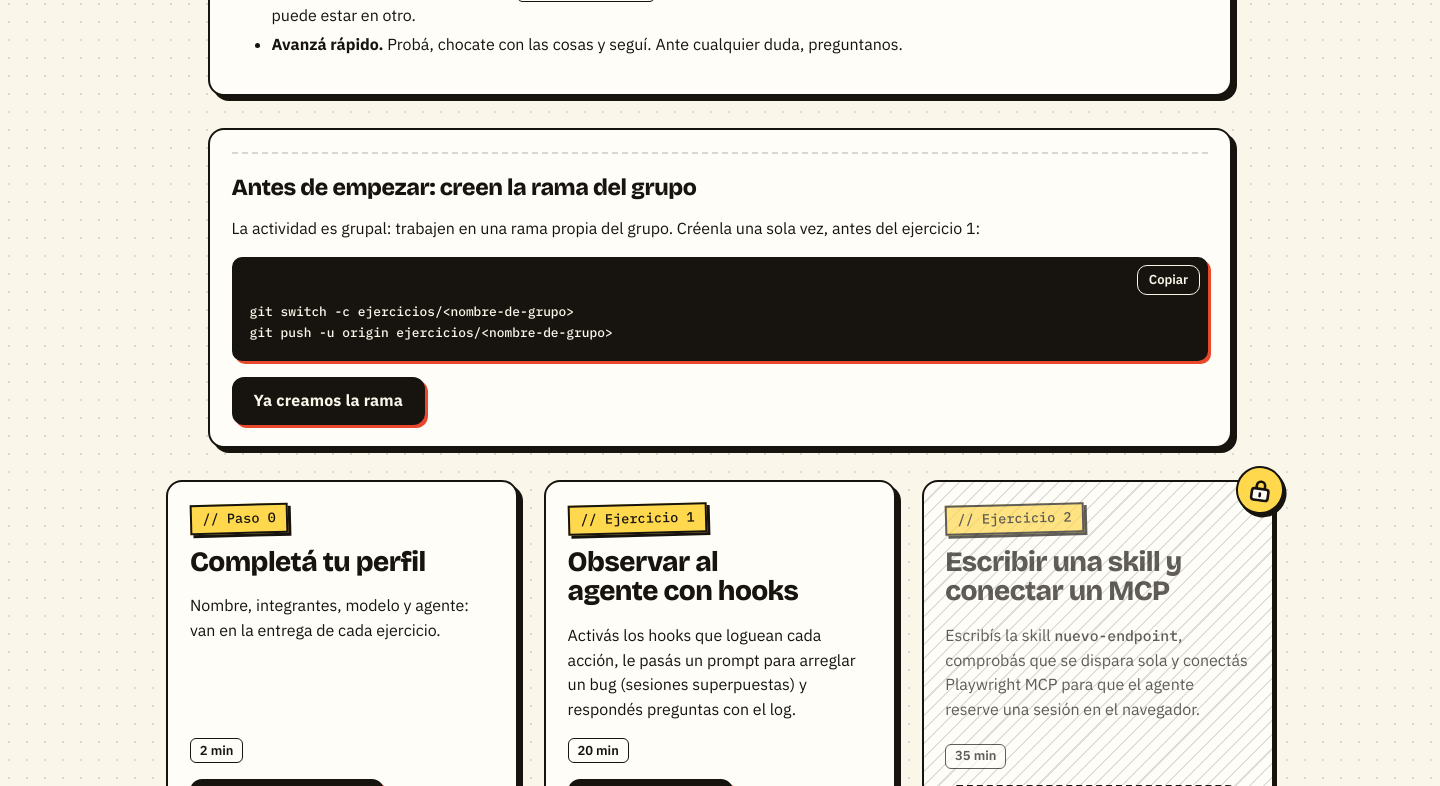
Test: Ejercicios (índice) › arriba pide crear la rama del grupo y el aviso se va al confirmarlo
(page scrolled)
Expected: the element "rama del grupo" shows "git switch -c ejercicios/<nombre-de-grupo>", [250,303,613,341]
Step 1. Click the button "Ya creamos la rama" → (328, 401), box [232,377,425,425]
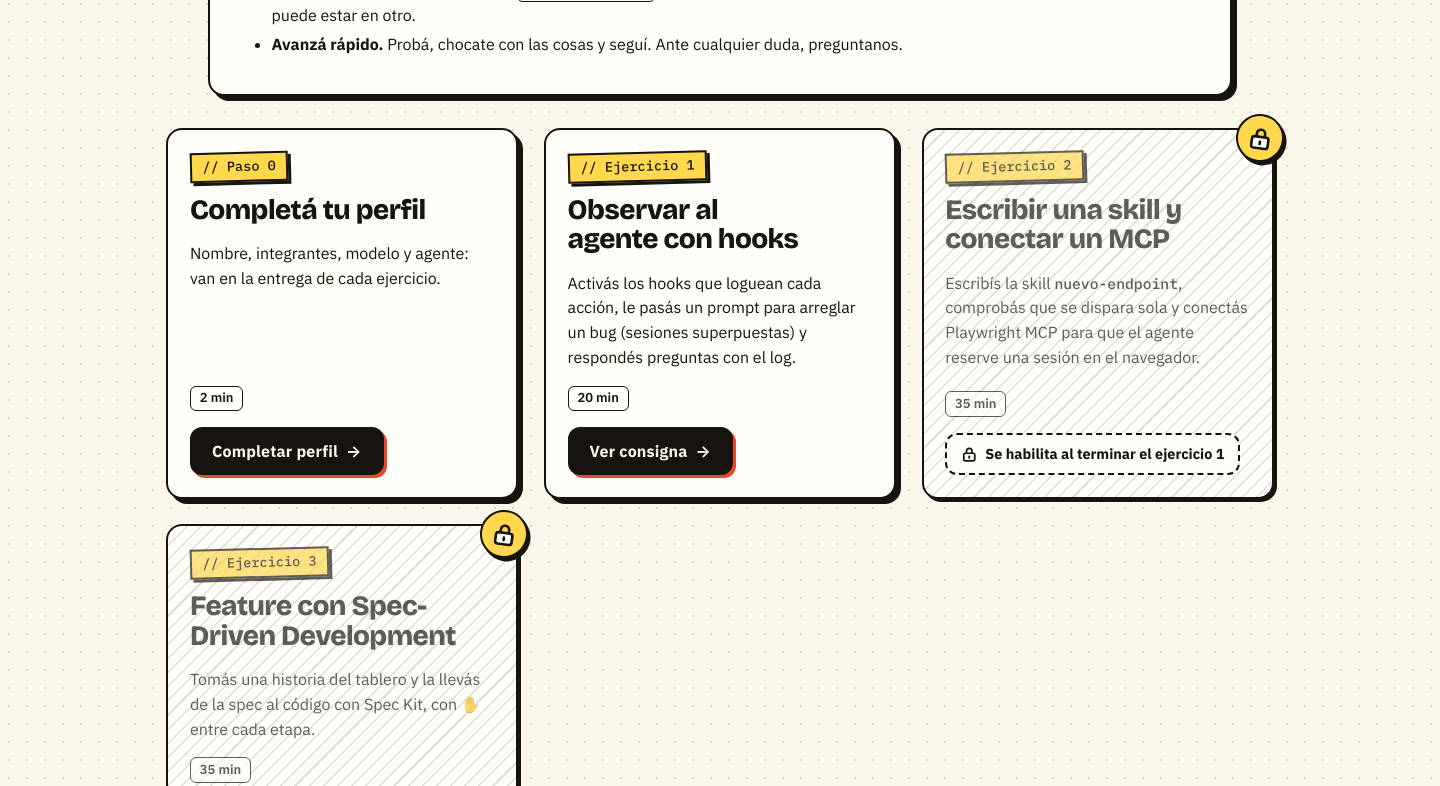
Expected: the heading "rama del grupo" is gone
